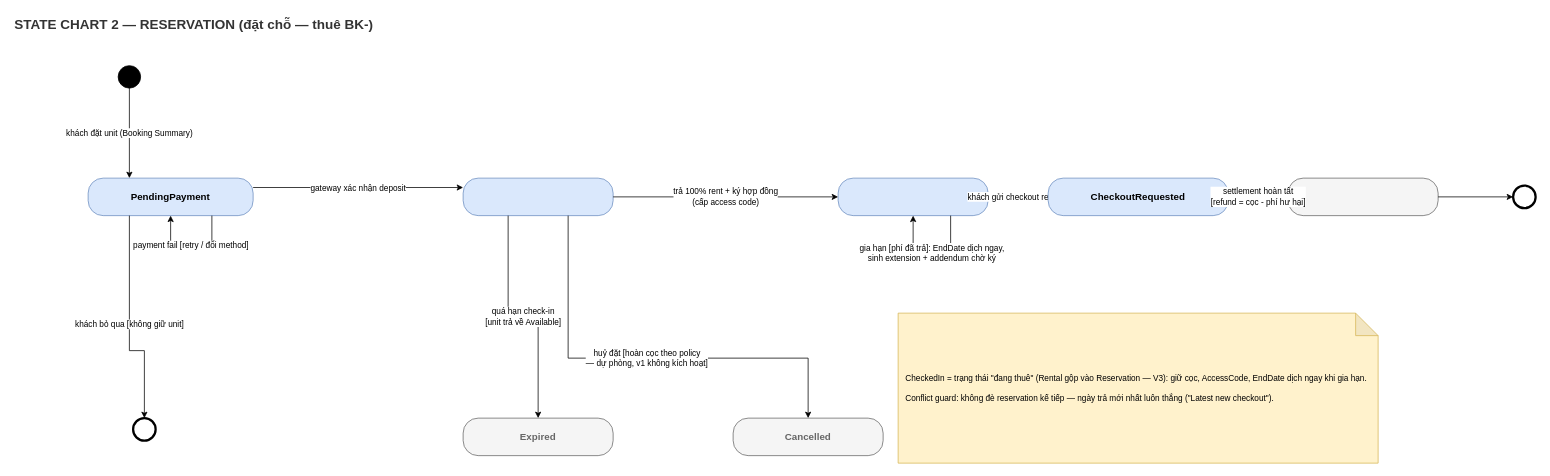
Image size: 1550x476. Some labels were removed from this diagram. Each missing label, with the centre of its shape:
CheckedIn: the point at 912,196
Closed: the point at 1362,196
Reserved: the point at 537,196
